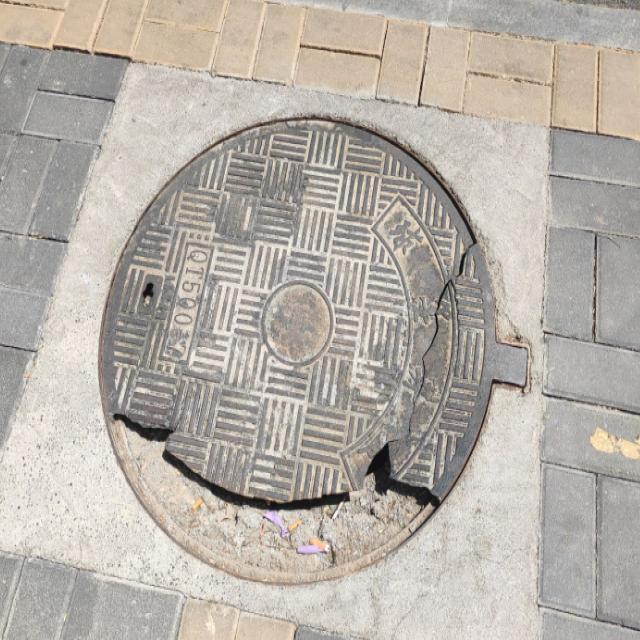manhole: (100, 119, 528, 578)
